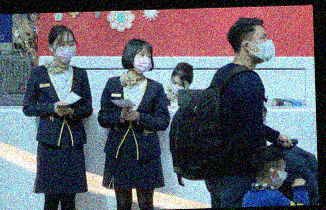with_mask: (248, 31, 275, 63), (53, 38, 75, 63), (131, 49, 152, 75), (168, 76, 188, 95), (272, 165, 287, 188)
